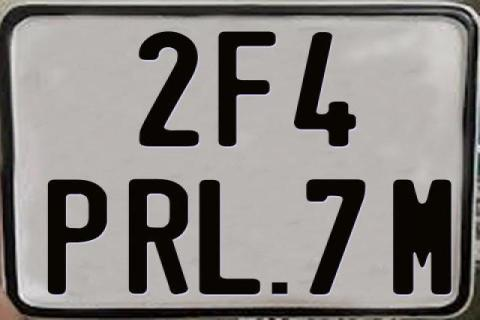0: (294, 31, 362, 147), (136, 29, 199, 148), (305, 179, 368, 297)
F: (215, 30, 278, 148)
L: (199, 178, 266, 294)
M: (390, 179, 454, 295)
P: (46, 179, 106, 297)
R: (128, 177, 192, 292)
